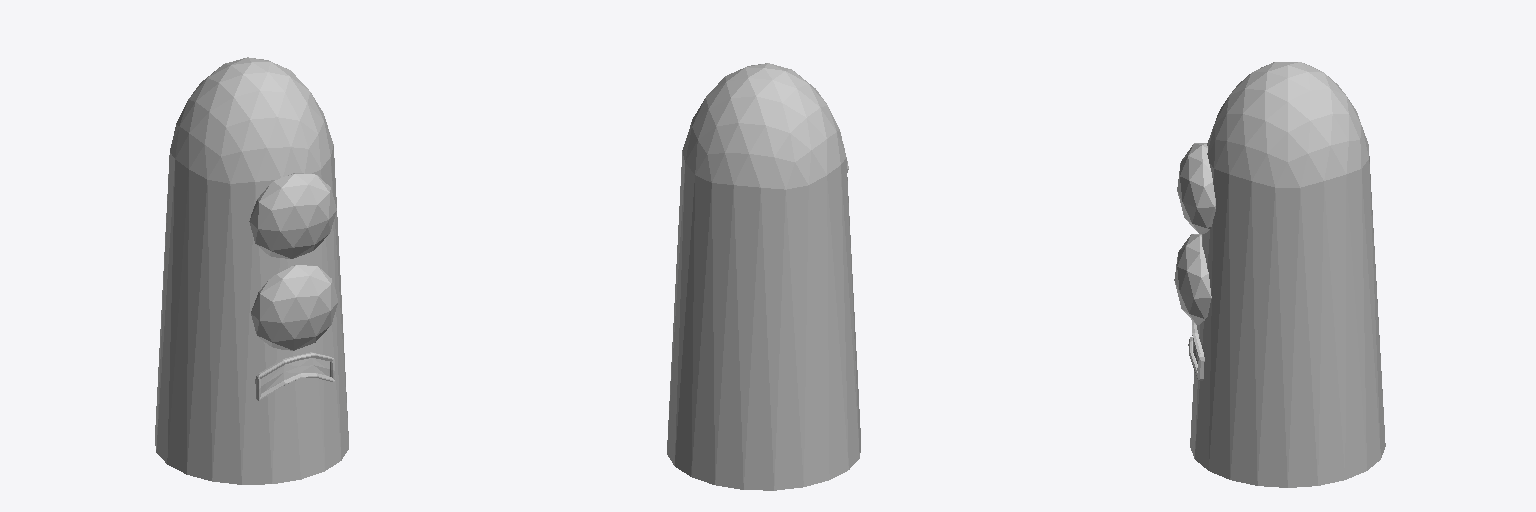
Rendered from enemy2.obj.
3 renders of one model, left to right at view 1: azimuth 30°, elevation 25°; view 2: azimuth 150°, elevation 25°; view 3: azimuth 270°, elevation 25°, orthographic.
Visible parts, largest first — view 1: Icosphere.002; view 2: Icosphere.002; view 3: Icosphere.002.
Part boxes in pixels (x1,y1,x2,y2): Icosphere.002: (155,57,348,484); Icosphere.002: (667,63,860,490); Icosphere.002: (1174,62,1385,487).
Bounding box in the file's own units: 0.3881 × 0.8347 × 0.4192.